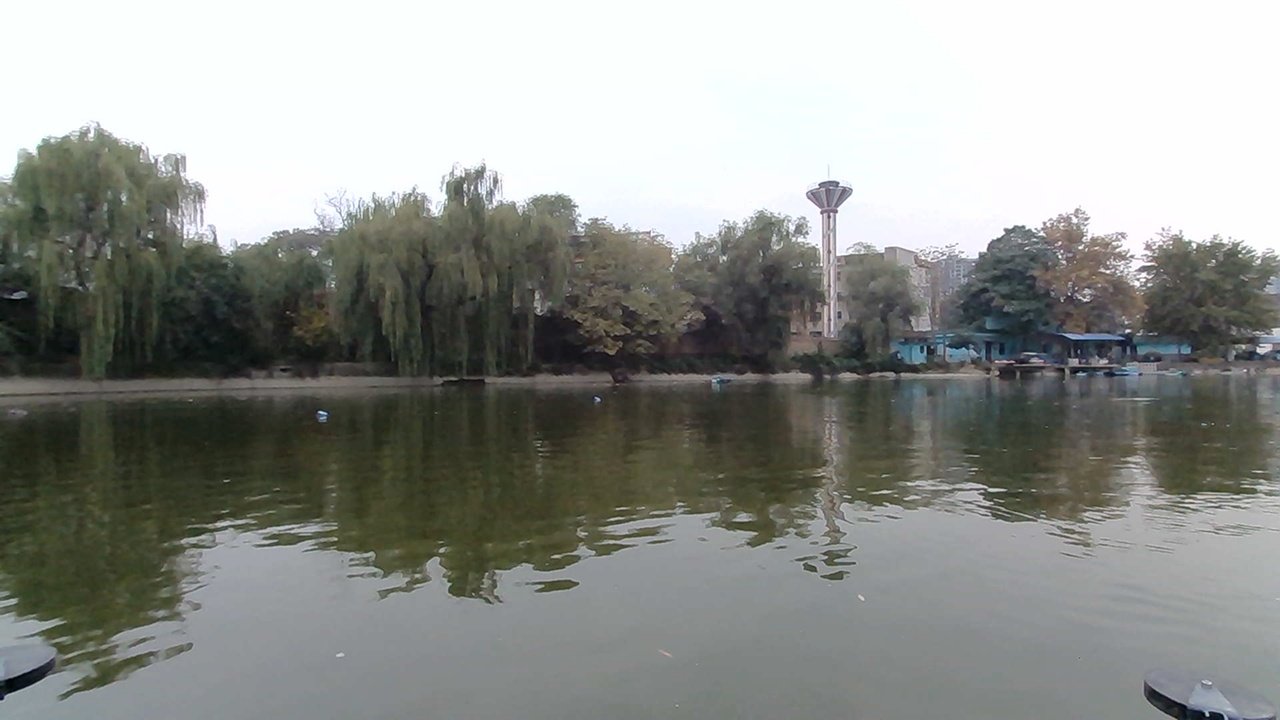bottle: (306, 406, 337, 424)
